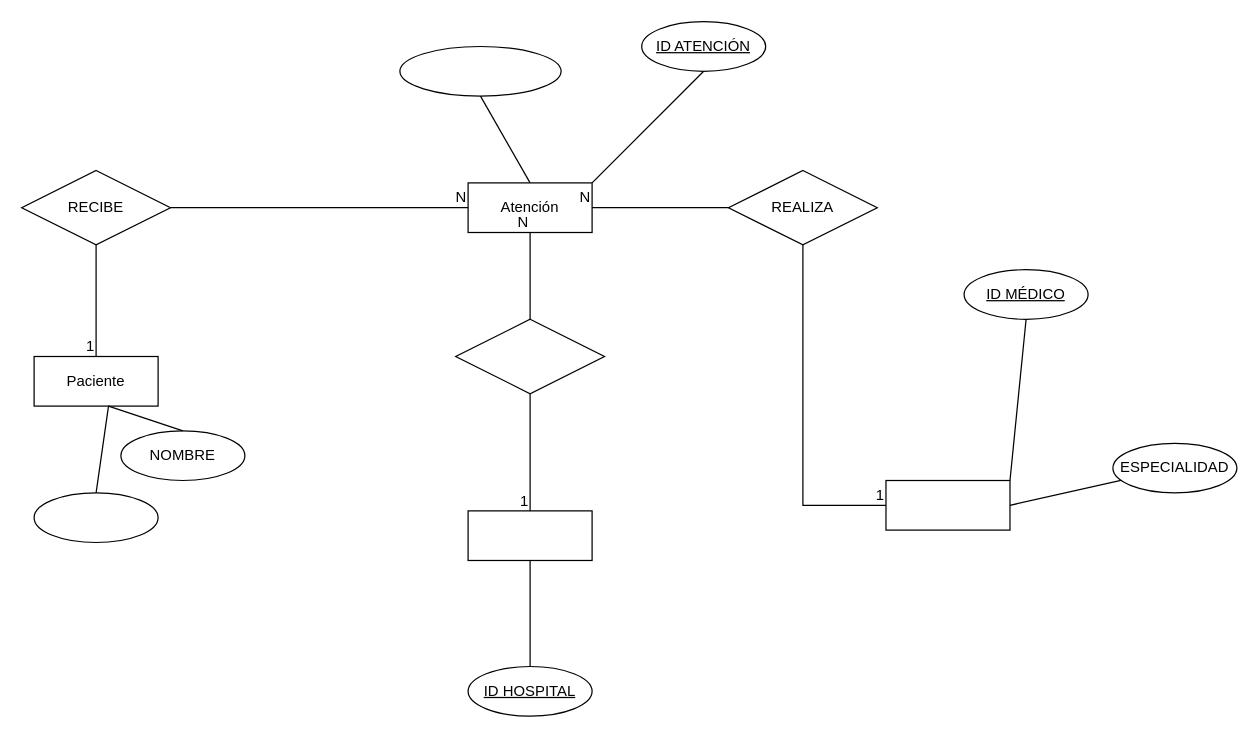
The diagram is 1259 pixels wide and 738 high, and some of its shapes have lost their labels. Each missing label, with the box of its shape:
FECHA_ATENCION: (399, 45, 561, 96)
Hospital: (467, 510, 592, 560)
Médico: (885, 479, 1010, 530)
REGISTRA: (454, 318, 604, 394)
RUT: (33, 492, 158, 542)
